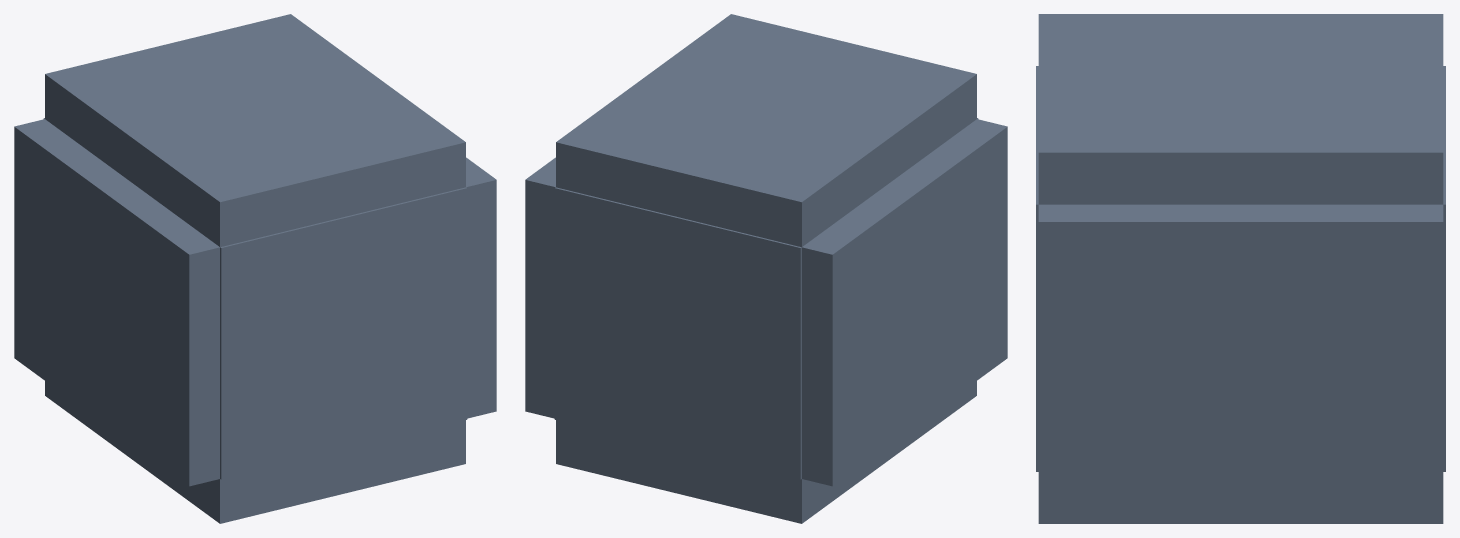
Rendered from bb_comp_Signals_StanceRail.fbx.
3 renders of one model, left to right at view 1: azimuth 30°, elevation 25°; view 2: azimuth 150°, elevation 25°; view 3: azimuth 270°, elevation 25°, orthographic. The views are drawn at different scales.
Visible parts, largest first — view 1: bb_comp_Signals_StanceRail; view 2: bb_comp_Signals_StanceRail; view 3: bb_comp_Signals_StanceRail.
Part boxes in pixels (x1=…): bb_comp_Signals_StanceRail: x1=14, y1=14, x2=496, y2=523; bb_comp_Signals_StanceRail: x1=525, y1=14, x2=1007, y2=523; bb_comp_Signals_StanceRail: x1=1036, y1=14, x2=1445, y2=523.
Bounding box in the file's own units: 1 × 1 × 1.
